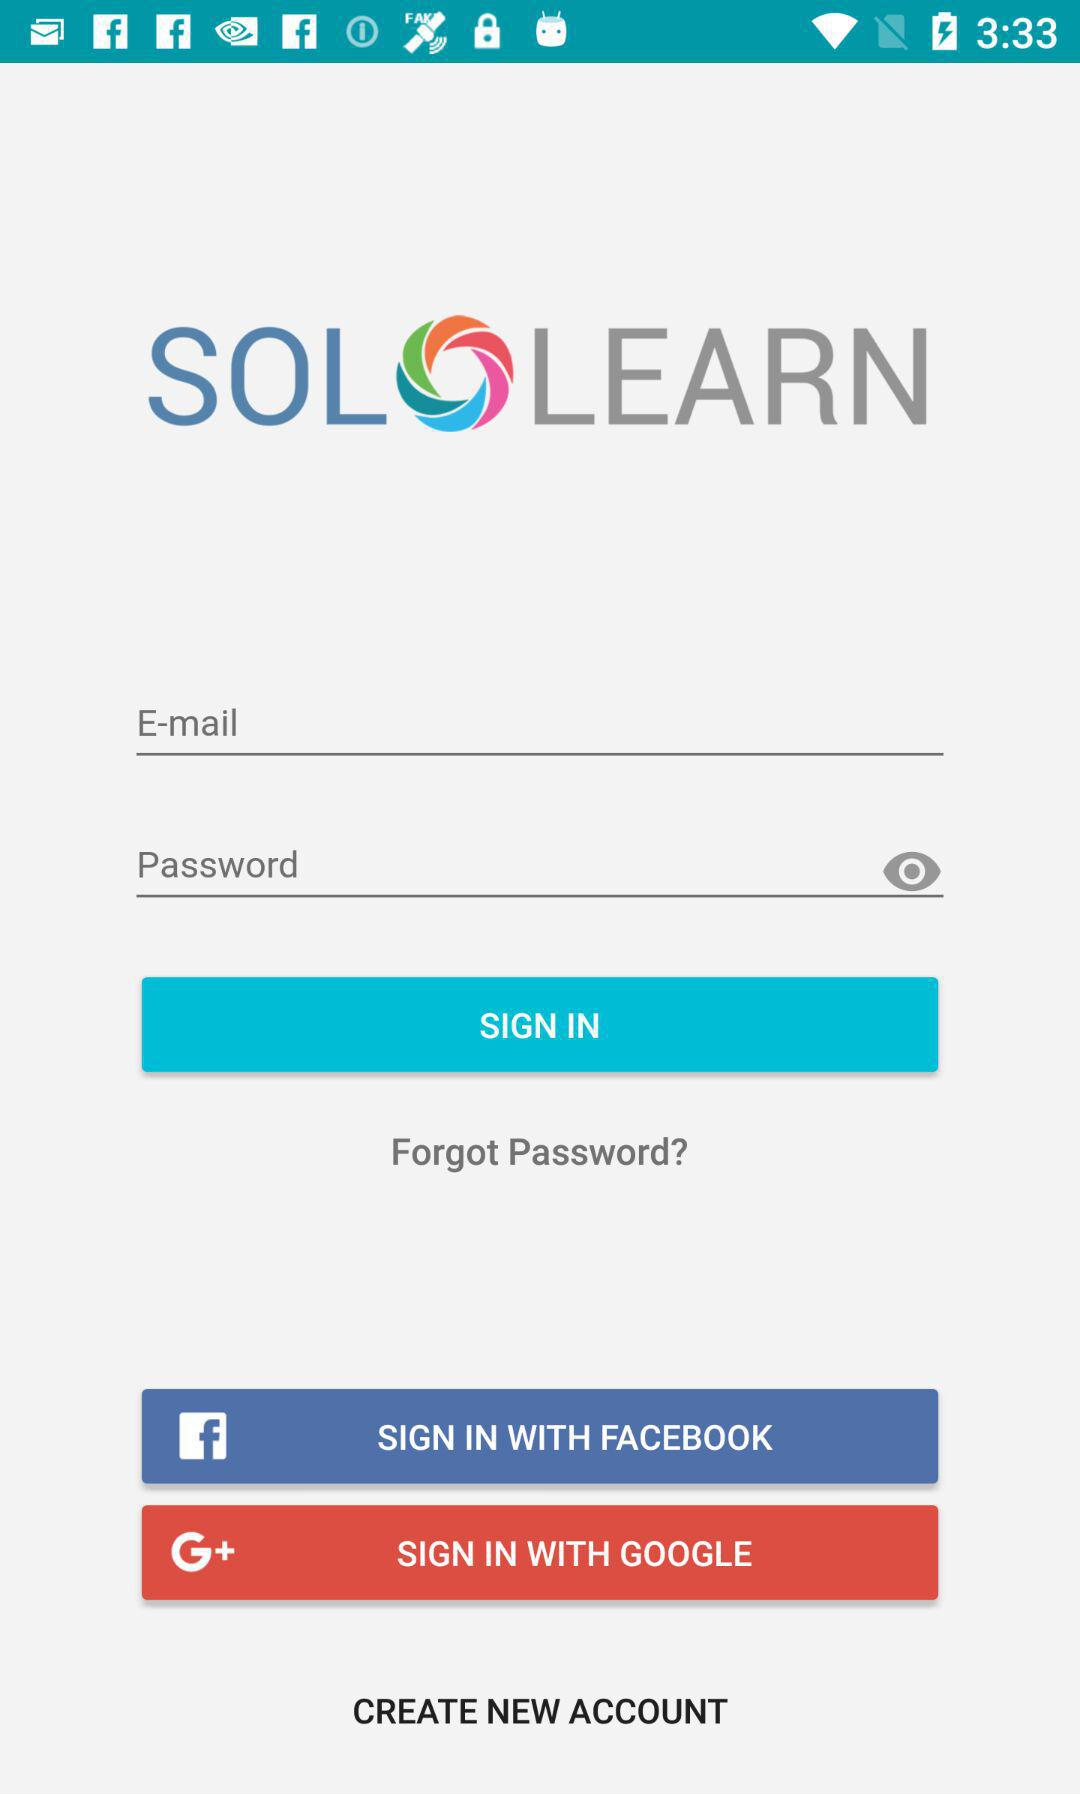EditText: (136, 850, 945, 900), (136, 709, 945, 757)
Icon: (881, 852, 942, 892)
Image: (149, 314, 928, 434)
Text: (392, 1137, 689, 1174), (354, 1698, 729, 1726), (140, 850, 299, 879), (140, 709, 238, 737)
TextButton: (142, 976, 939, 1073), (142, 1504, 939, 1601), (142, 1389, 939, 1484)
UpperTaskBar: (1, 1, 1080, 64)
